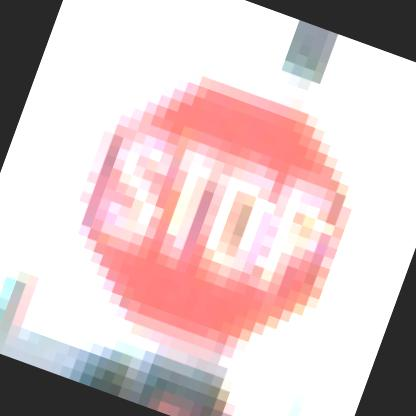stop: (28, 11, 416, 400)
